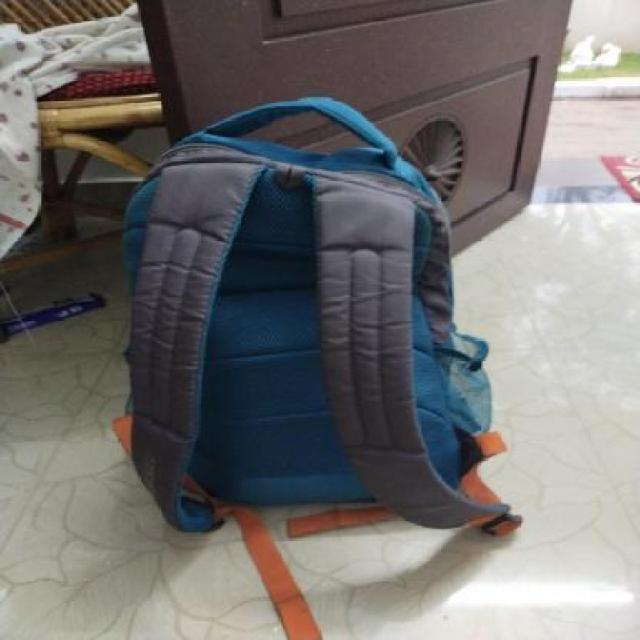backpack: (108, 89, 526, 543)
